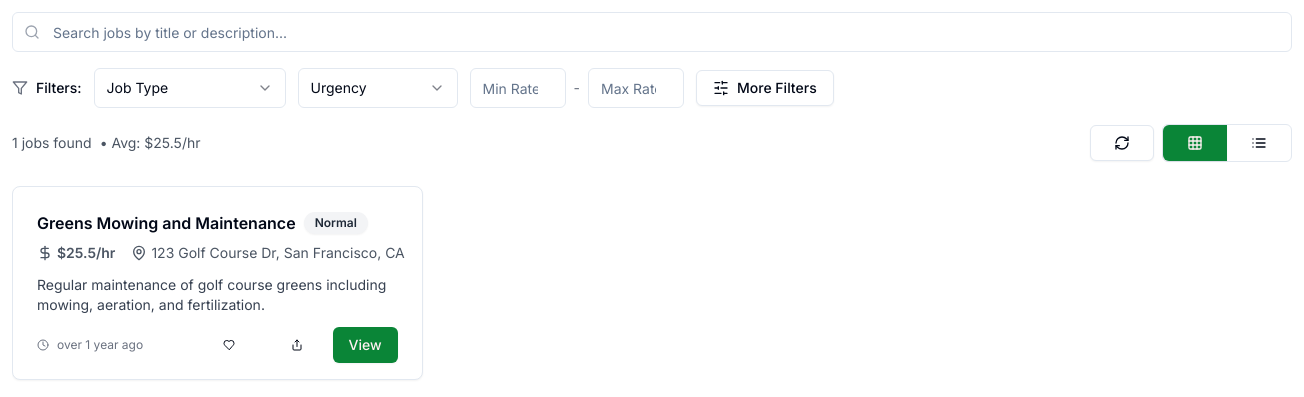
Scenario: Job Components › JobList › should clear filters when clear all is clicked
// Set a filter first
In the field with placeholder "Search jobs by title or description...": (652, 32) top-left (12, 12), bottom-right (1292, 52), type "test"
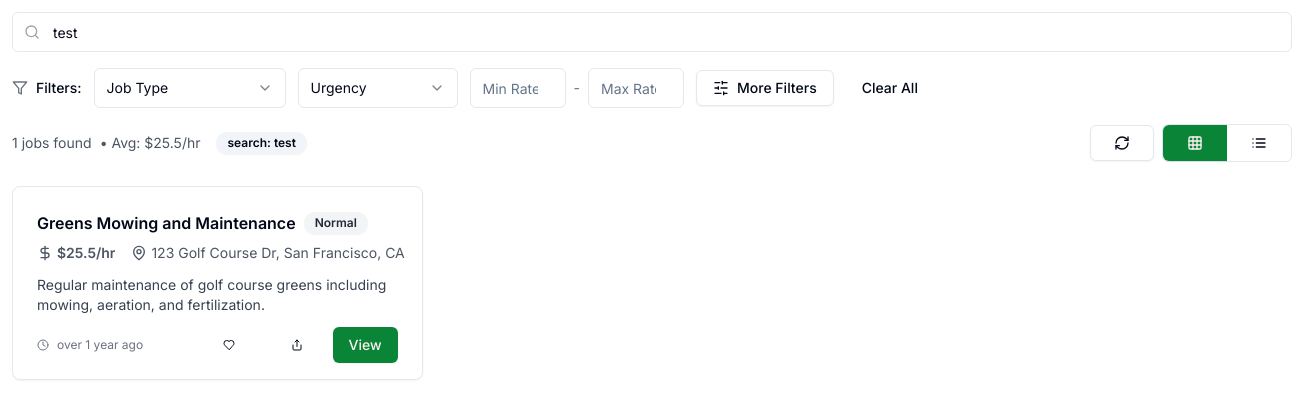
// Clear filters
Click the button "Clear All": (890, 88) top-left (846, 70), bottom-right (934, 106)
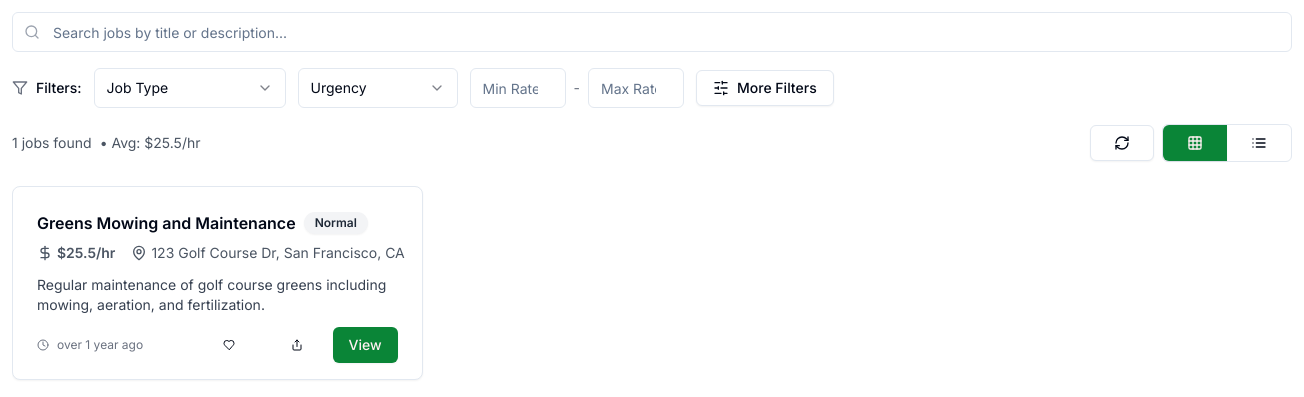
Result: the field with placeholder "Search jobs by title or description..." is empty at top-left (12, 12), bottom-right (1292, 52)
